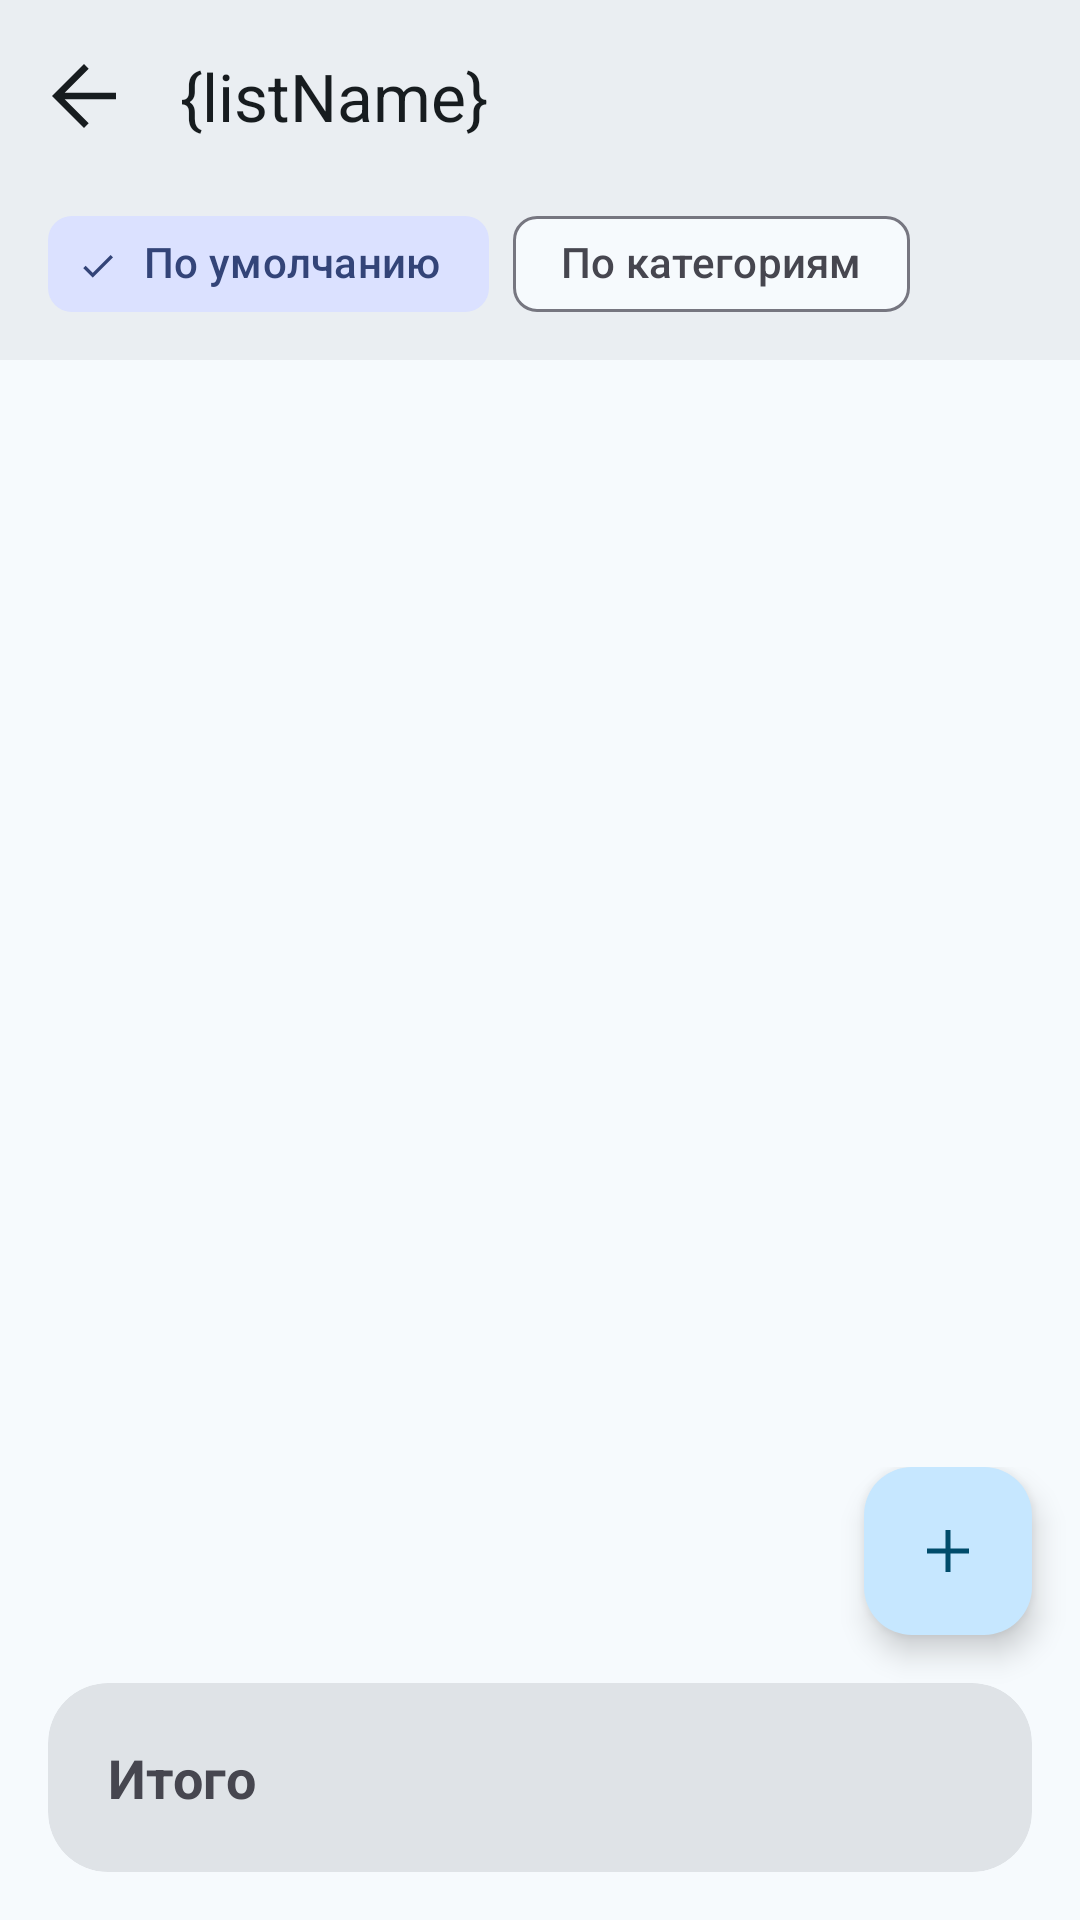

Named icons in this screenshot (1080×1920) and their bounding boxes, (x1, y1, x2, y2):
add: (864, 1467, 1032, 1635)
